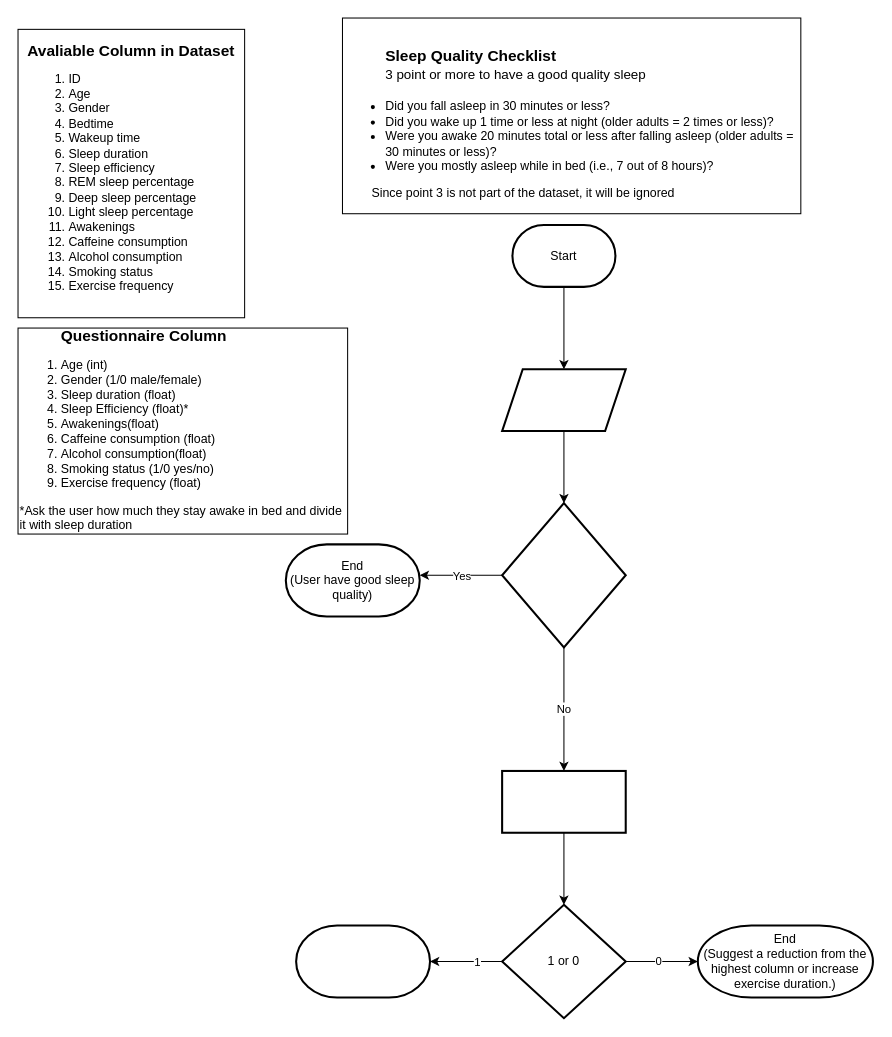
This 892x1037 diagram has some shape labels left out. Here are the shapes that lost their labels. From the top down, the centre of each, then its label:
At point 563,400: "Questionnaire".
At point 563,575: "All 3 Checklist Are Correct".
At point 563,801: "Logistic Regression ANN".
At point 363,961: "End (Input column doesnt affect the user)".
